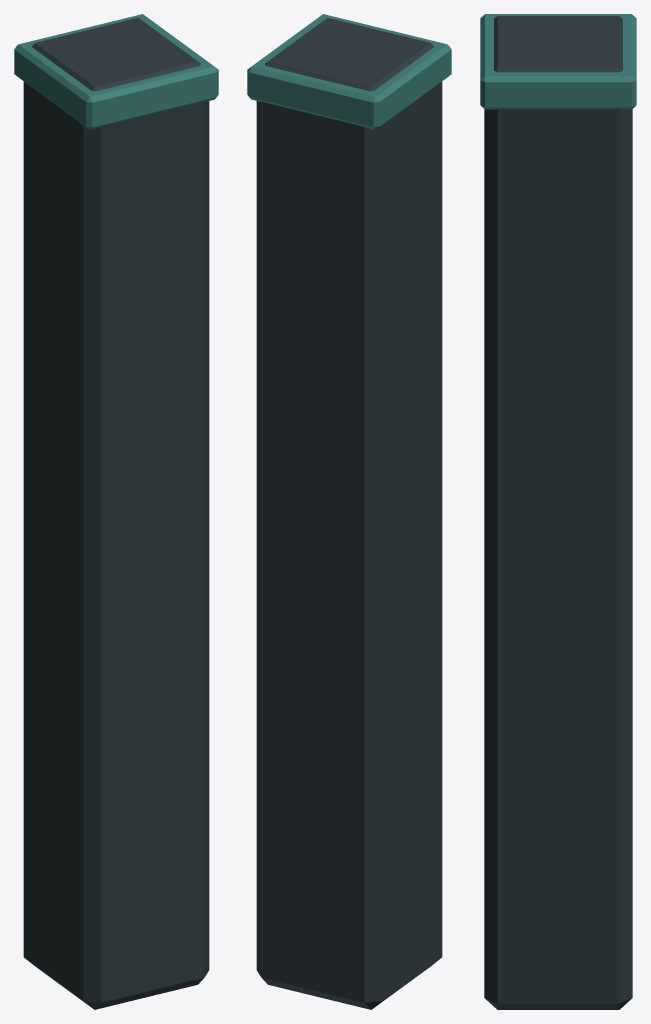
File: factory-corner-lod0.61e188a4719a.glb
3 renders of one model, left to right at view 1: azimuth 30°, elevation 25°; view 2: azimuth 150°, elevation 25°; view 3: azimuth 270°, elevation 25°, orthographic. The views are drawn at different scales.
Visible parts, largest first — view 1: body; view 2: body; view 3: body.
Boxes of the visible parts, x1,y1,x2,y2 form: body: [14, 14, 218, 1009]; body: [247, 14, 451, 1009]; body: [480, 14, 636, 1009].
Bounding box in the file's own units: 0.21 × 1.4 × 0.21.
